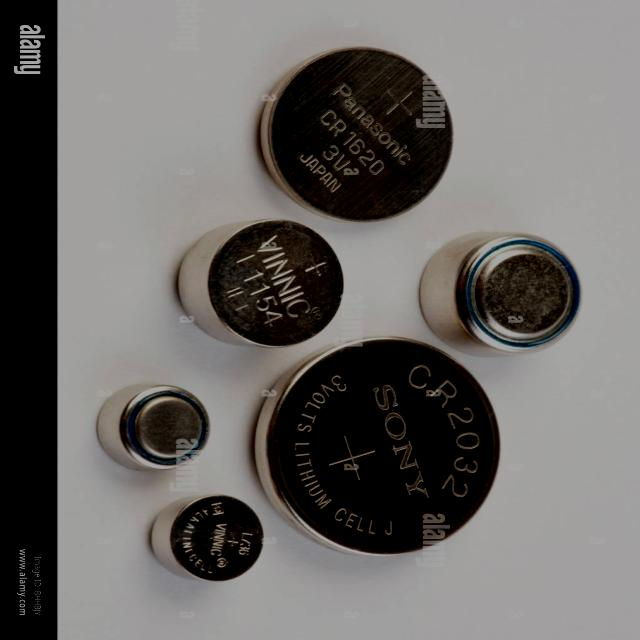COIN: (246, 334, 504, 561), (254, 42, 456, 227), (171, 217, 346, 349), (412, 229, 583, 361), (142, 492, 270, 584), (92, 379, 213, 475)
